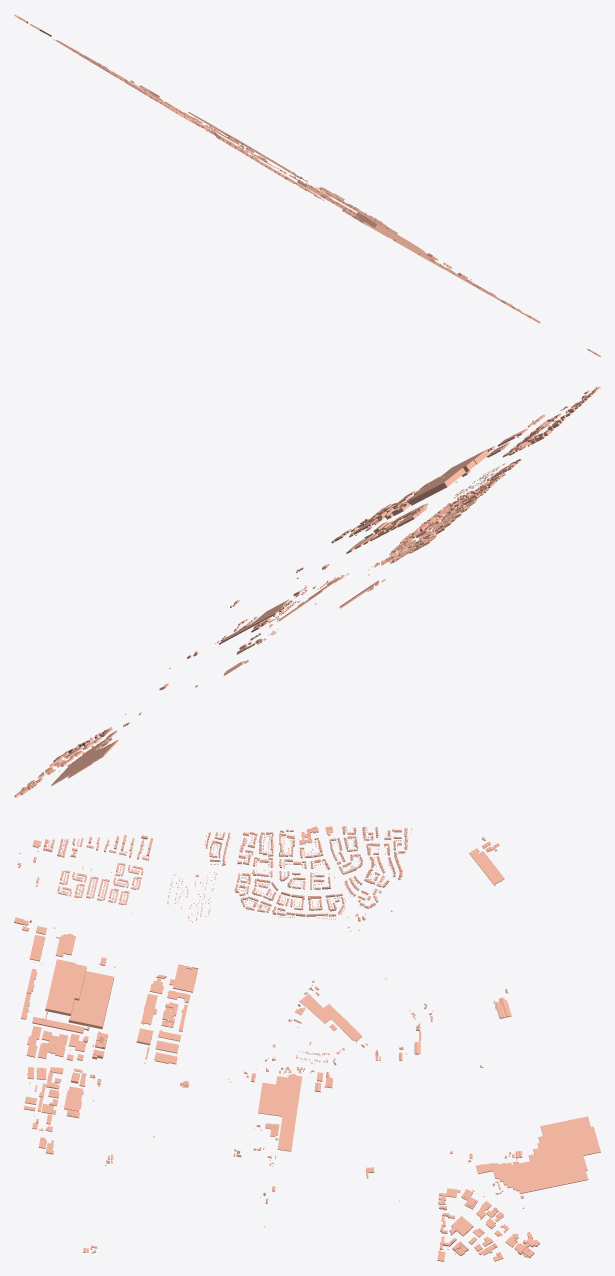
The picture shows the model from 3 angles, top to bottom: view 1: azimuth 30°, elevation 25°; view 2: azimuth 150°, elevation 25°; view 3: azimuth 270°, elevation 25°; orthographic projection. The views are drawn at different scales.
Bounding box in the file's own units: 1944 × 1500 × 2880.
